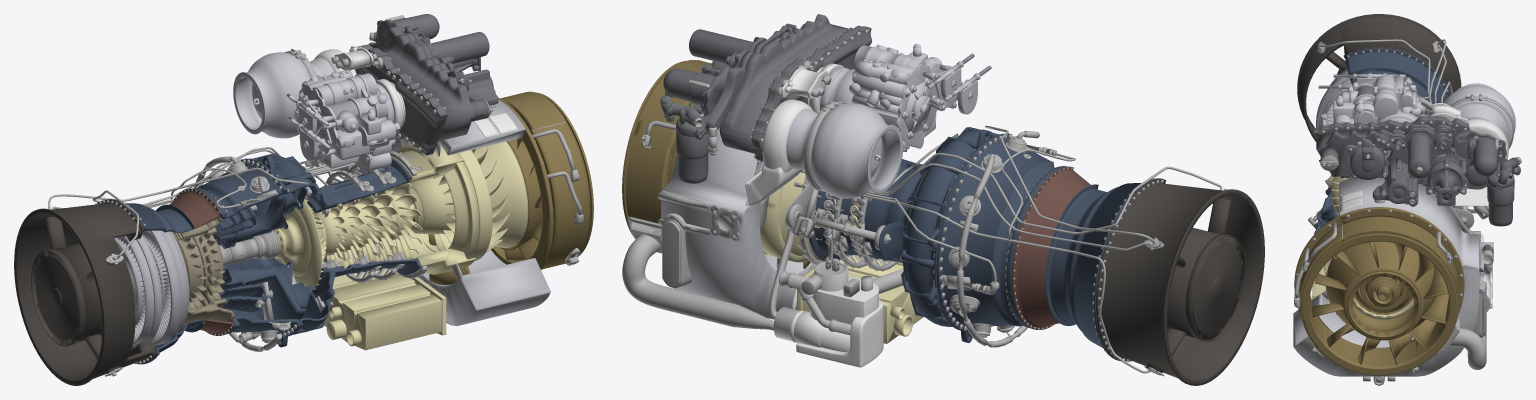
File: engine_1.glb
3 renders of one model, left to right at view 1: azimuth 30°, elevation 25°; view 2: azimuth 150°, elevation 25°; view 3: azimuth 270°, elevation 25°, orthographic. The views are drawn at different scales.
Parts seen in each view (by area): view 1: Object.004, Object.010, Object.021, Object.003, Object, Object.009, Object.001, Object.027, Object.022, Object.007, Object.019; view 2: Object, Object.010, Object.003, Object.021, Object.009, Object.007, Object.001, Object.019, Object.004; view 3: Object.001, Object.009, Object.010, Object, Object.021, Object.003, Object.007, Object.004, Object.027.
Part boxes in pixels (x1,y1,x2,y2): Object.004: [273, 141, 528, 350]; Object.010: [233, 52, 550, 326]; Object.021: [14, 199, 156, 385]; Object.003: [107, 153, 420, 364]; Object: [48, 15, 583, 376]; Object.009: [355, 14, 498, 155]; Object.001: [386, 91, 593, 284]; Object.027: [114, 230, 189, 346]; Object.022: [172, 217, 234, 324]; Object.007: [314, 46, 518, 138]; Object.019: [158, 188, 234, 353]; Object: [622, 24, 1227, 376]; Object.010: [661, 43, 991, 319]; Object.003: [809, 127, 1163, 361]; Object.021: [1096, 179, 1264, 385]; Object.009: [660, 14, 871, 183]; Object.007: [745, 63, 883, 367]; Object.001: [622, 60, 810, 268]; Object.019: [1012, 166, 1090, 329]; Object.004: [760, 169, 923, 343]; Object.001: [1294, 207, 1464, 375]; Object.009: [1314, 116, 1520, 226]; Object.010: [1293, 73, 1515, 376]; Object: [1294, 39, 1521, 385]; Object.021: [1297, 14, 1461, 141]; Object.003: [1314, 48, 1454, 234]; Object.007: [1339, 103, 1508, 311]; Object.004: [1311, 176, 1414, 319]; Object.027: [1316, 69, 1351, 129].
Size of the model in its own units: 0.5957 by 0.2956 by 0.2623.
